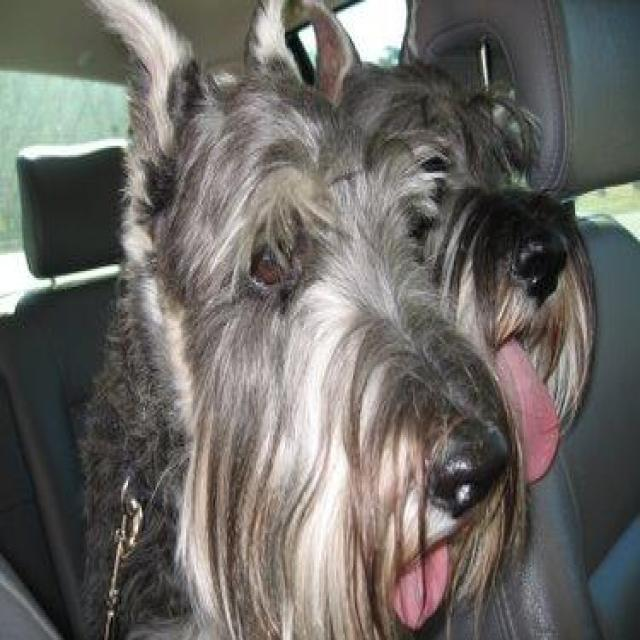standard_schnauzer: (80, 0, 524, 638), (294, 2, 598, 492)
